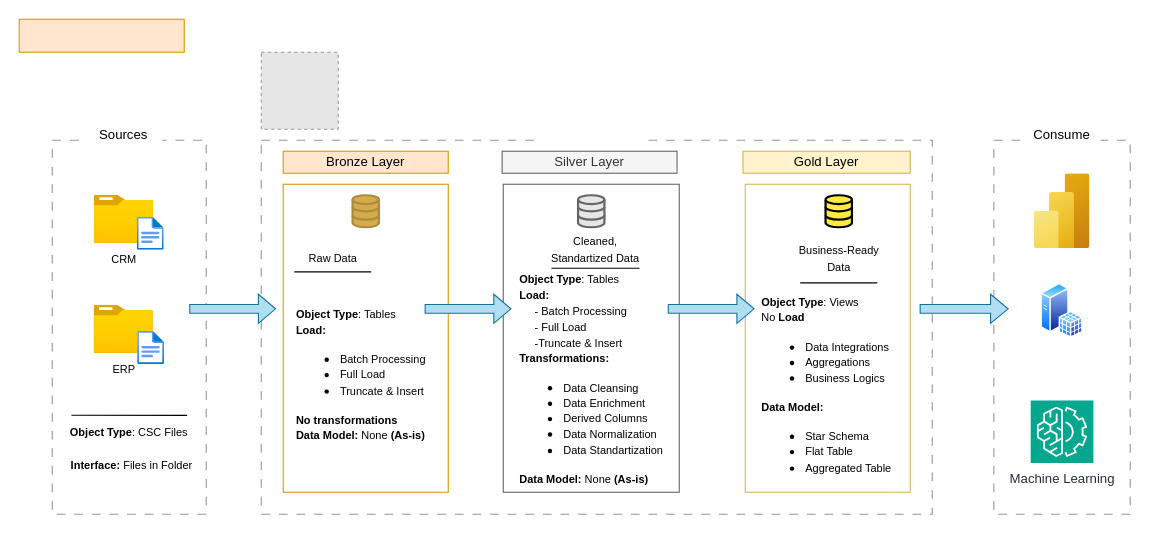
The diagram is 1150 pixels wide and 534 high, and some of its shapes have lost their labels. Grey dashed boxes stand in for pictures. Each missing label, with the box of its shape:
Ad-hoc SQL Queries: (1040, 283, 1083, 338)
BI & Reporting: (1033, 173, 1090, 248)
Data WareHouse: (541, 118, 646, 151)
High Level Architecture: (18, 18, 184, 52)
